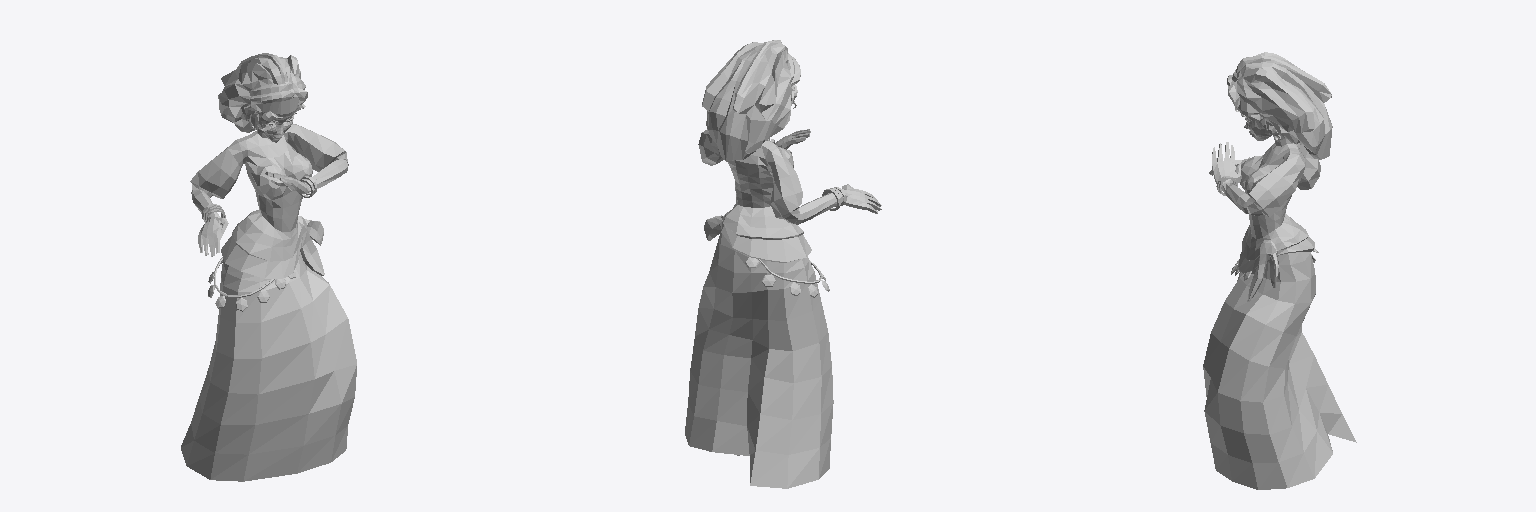
File: pose033.obj
3 renders of one model, left to right at view 1: azimuth 30°, elevation 25°; view 2: azimuth 150°, elevation 25°; view 3: azimuth 270°, elevation 25°, orthographic.
Visible parts, largest first — view 1: Peasant_girl; view 2: Peasant_girl; view 3: Peasant_girl.
Boxes of the visible parts, <box> form: Peasant_girl: <box>181,53,356,481</box>; Peasant_girl: <box>685,40,881,488</box>; Peasant_girl: <box>1203,52,1356,489</box>.
Bounding box in the file's own units: 83.68 × 198 × 67.24.